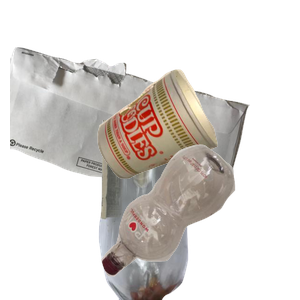glass: (96, 120, 283, 300)
paper: (10, 45, 250, 225)
plastic: (99, 142, 300, 300)
trash: (95, 67, 300, 238)
